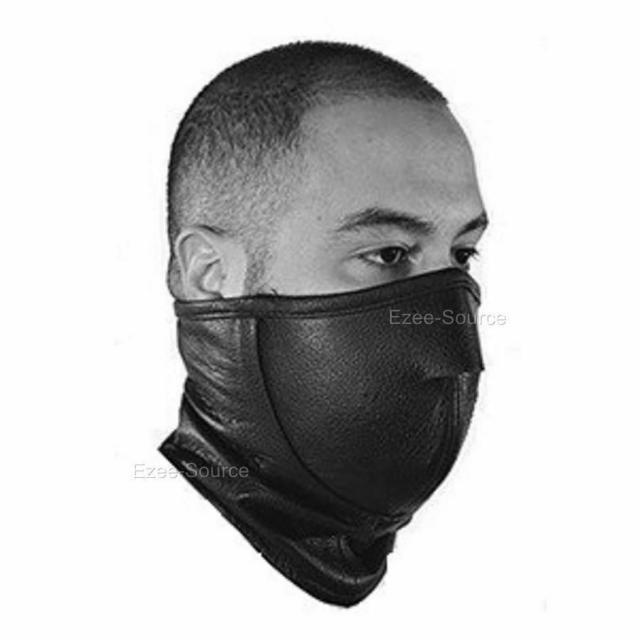fake: (159, 265, 489, 612)
real: (298, 104, 491, 524)
